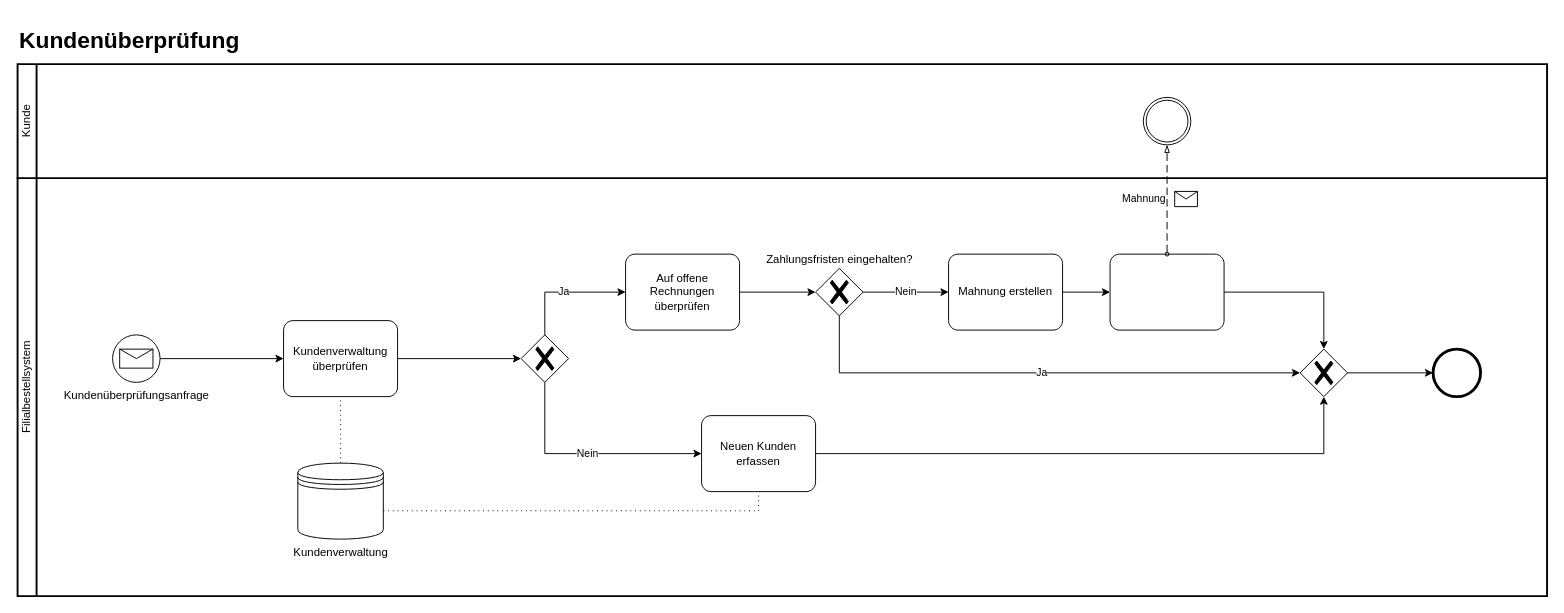
Some shapes in this 1564 by 613 pixel diagram are drawn without their labels. The centre of each missing label's shape, as x and y in pixels:
Kunde vorhanden?: [544,358]
Kundenüberprüfung erfolgreich: [1456,372]
Mahnung erhalten: [1166,120]
Mahnung versenden: [1166,291]
